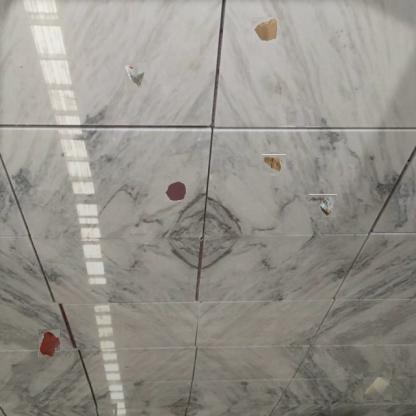dirty: (364, 372, 394, 400), (251, 17, 277, 43), (310, 194, 338, 217), (126, 63, 150, 89), (264, 153, 285, 175)
liquid: (38, 329, 60, 357), (164, 180, 186, 202)
